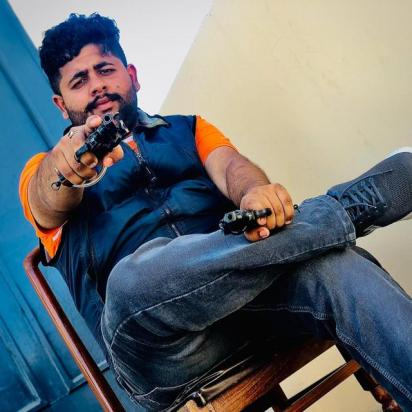Gun: (51, 110, 134, 192), (216, 199, 301, 241)
